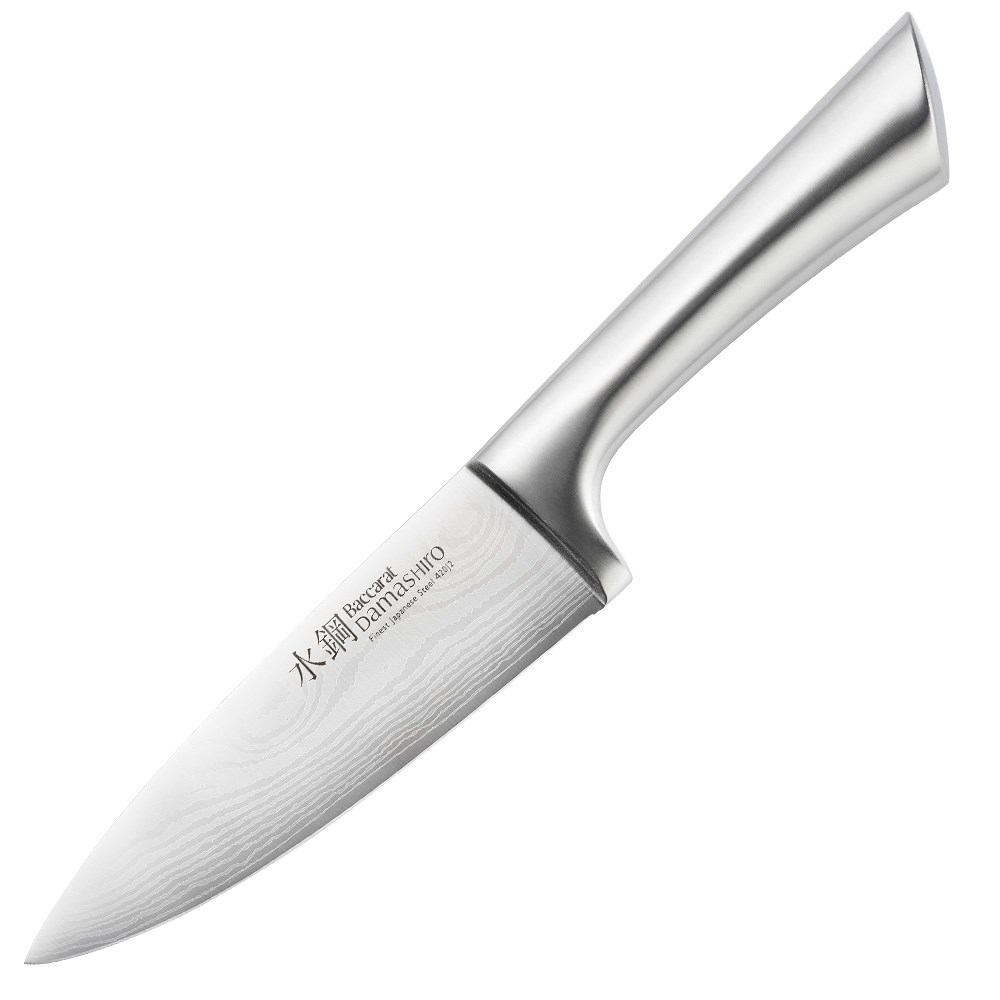knife: (23, 6, 955, 975)
